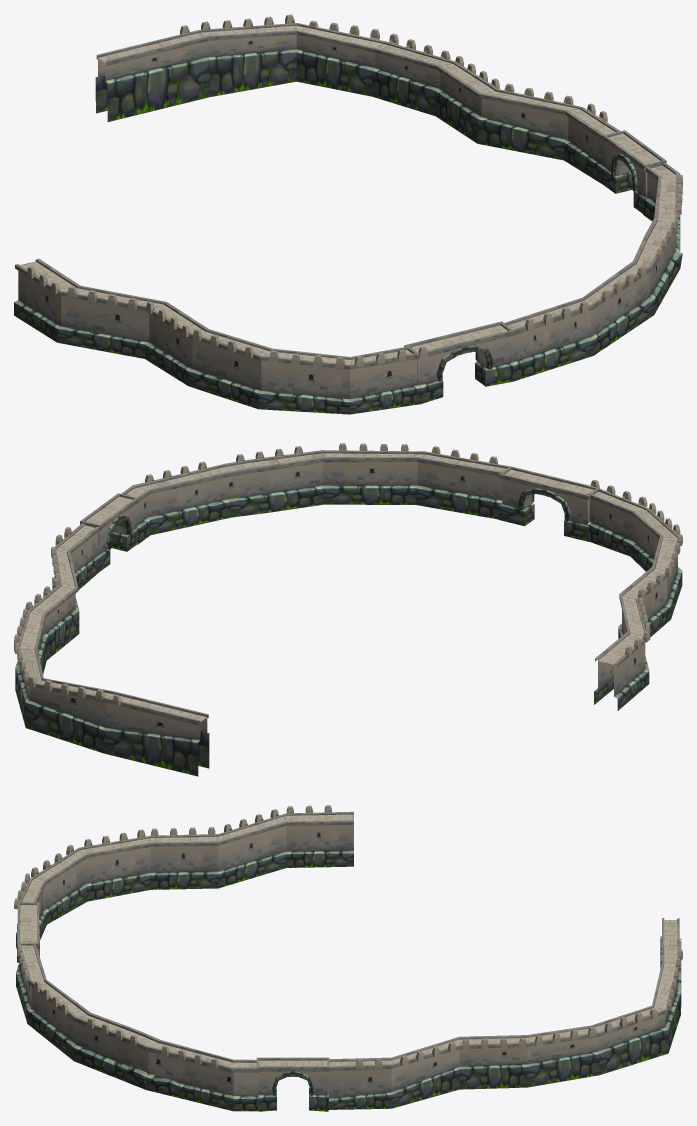
Rendered from chengqiang.FBX.
3 views of the same model, one above another, from view 1: azimuth 30°, elevation 25°; view 2: azimuth 150°, elevation 25°; view 3: azimuth 270°, elevation 25° (orthographic). The views are drawn at different scales.
Parts seen in each view (by area): view 1: majorcity_wall01; view 2: majorcity_wall01; view 3: majorcity_wall01.
Boxes of the visible parts, bbox=[...] form: majorcity_wall01: bbox=[14, 14, 682, 414]; majorcity_wall01: bbox=[14, 443, 682, 776]; majorcity_wall01: bbox=[14, 805, 682, 1111].
Size of the model in its own units: 540 by 56.73 by 595.
